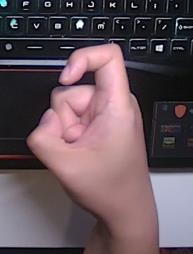anticlockwise: (24, 38, 157, 208)
